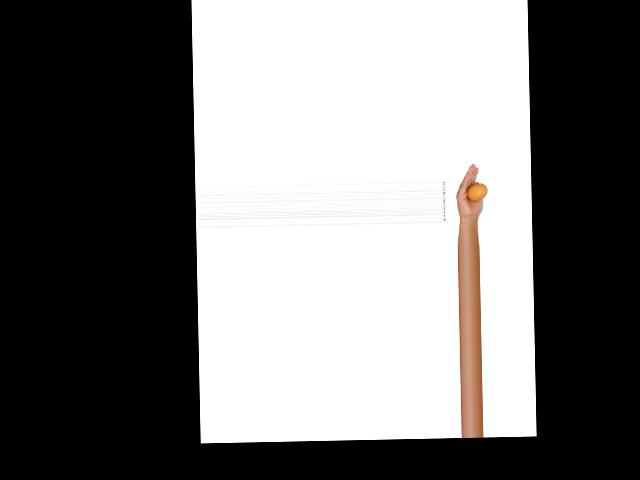egg: (465, 182, 487, 201)
